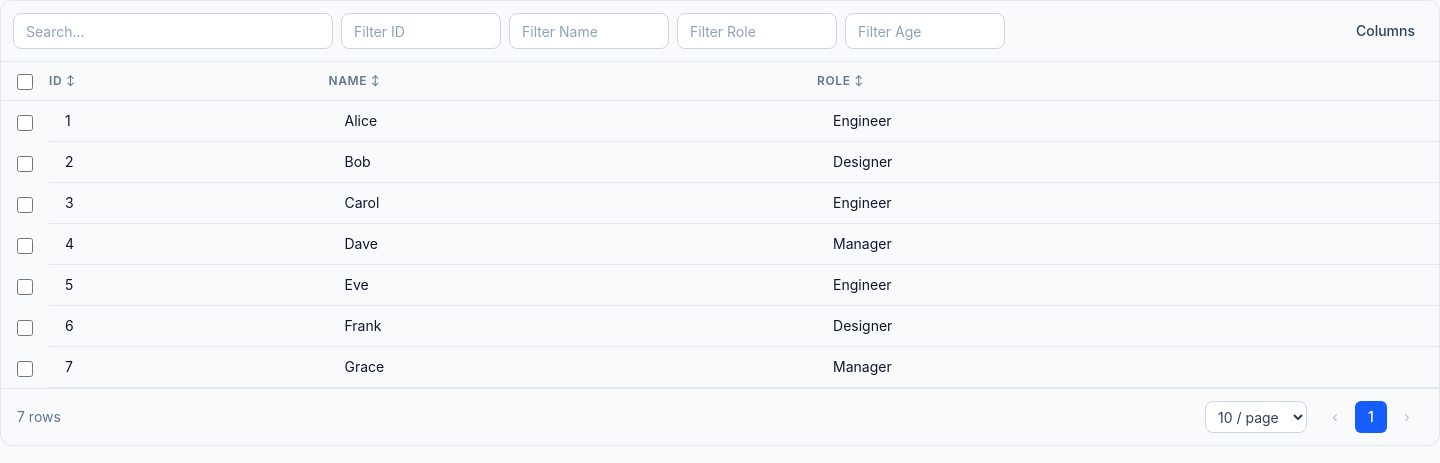
DataTable › column visibility › toggles a column back on
This screenshot has width=1440, height=463.
Step 1. Click the button "Columns" → (1385, 31), box [1344,13,1427,49]
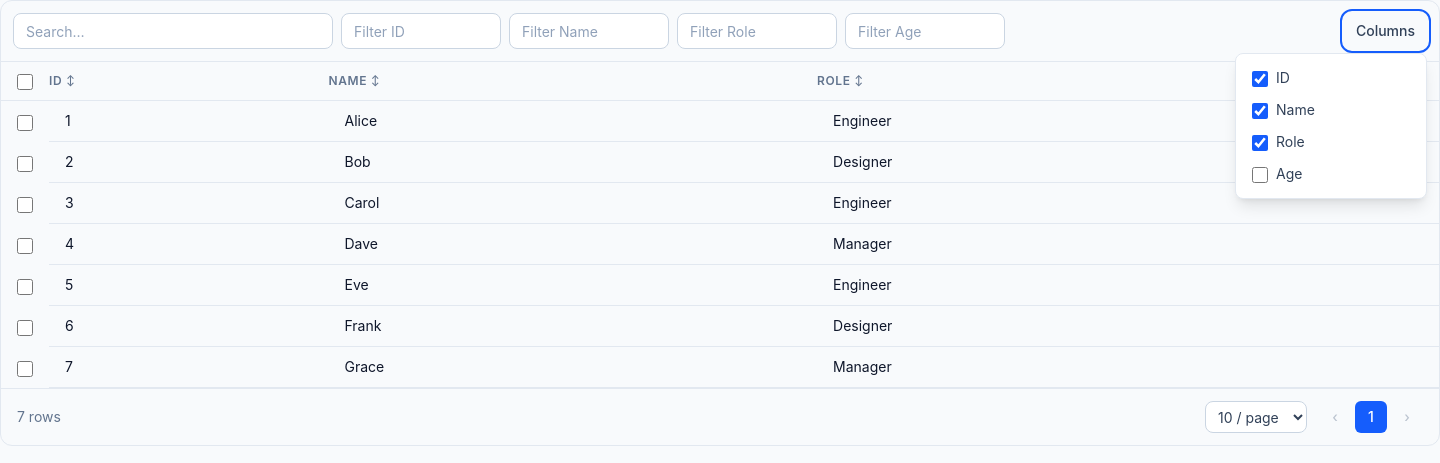
Step 2. Click the checkbox named "Toggle column Age" → (1260, 175), box [1252,167,1268,183]
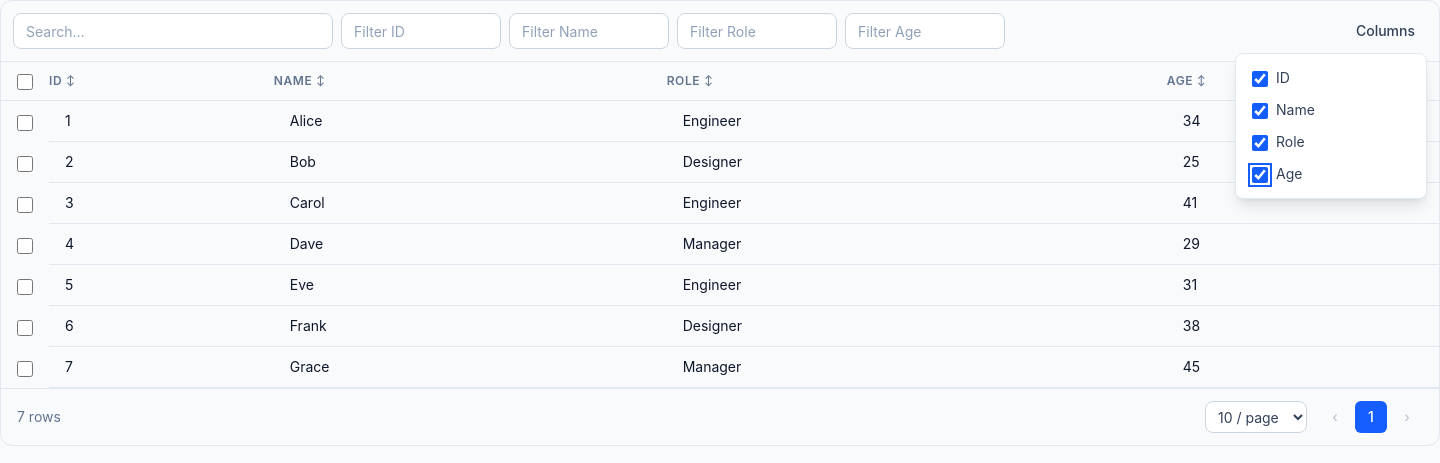
Expected: the column heading "Age" is shown, [1167,62,1439,101]
